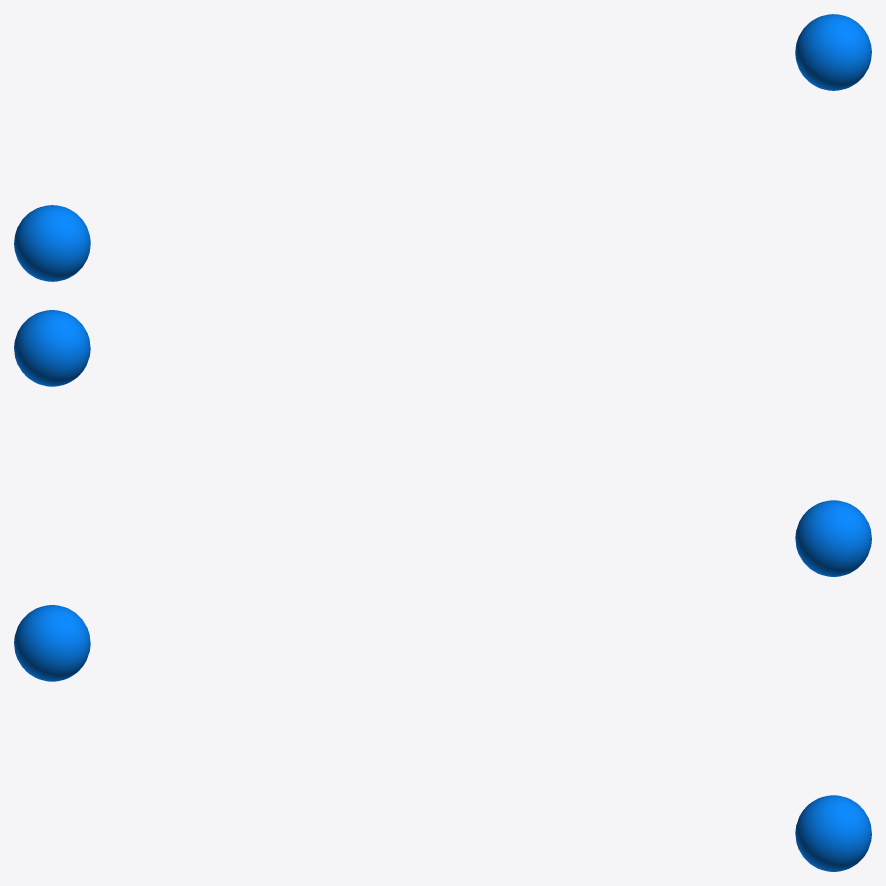
3 views of the same model, one above another, from view 1: azimuth 30°, elevation 25°; view 2: azimuth 150°, elevation 25°; view 3: azimuth 330°, elevation 25° (orthographic).
Visible parts, largest first — view 1: Sphere047; view 2: Sphere047; view 3: Sphere047.
Boxes of the visible parts, x1,y1,x2,y2 form: Sphere047: [14, 14, 871, 281]; Sphere047: [14, 310, 871, 576]; Sphere047: [14, 605, 871, 871].
Size of the model in its own units: 105 by 8.22 by 8.27.
